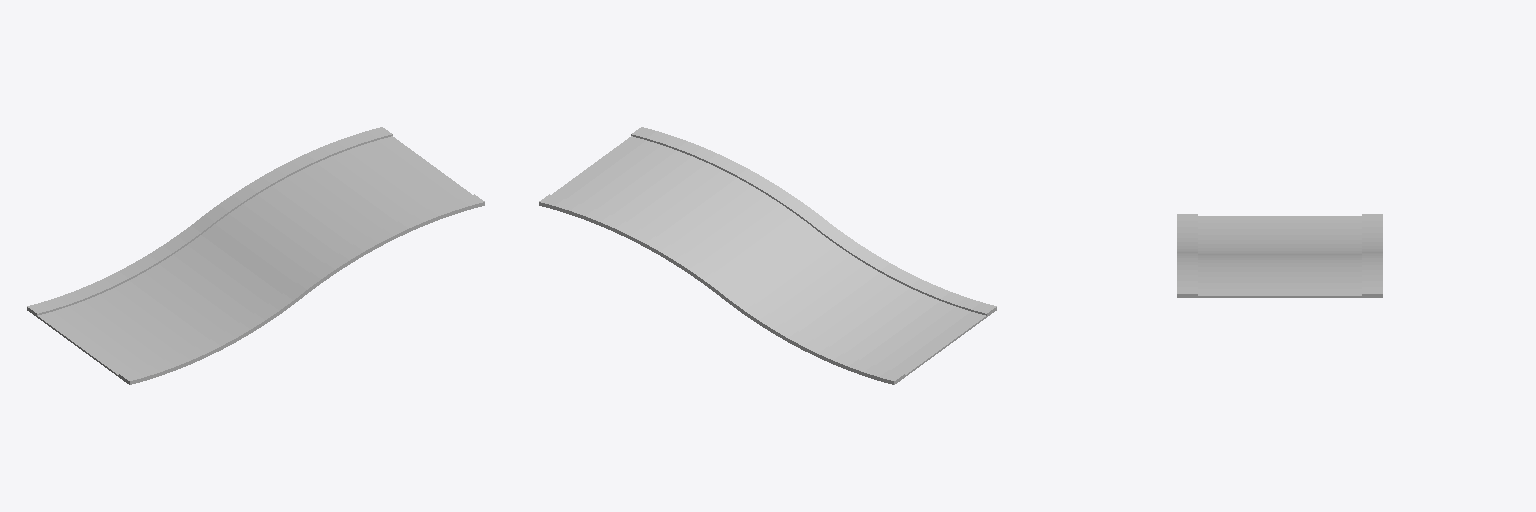
File: road_slantFlatCurve.obj
3 renders of one model, left to right at view 1: azimuth 30°, elevation 25°; view 2: azimuth 150°, elevation 25°; view 3: azimuth 270°, elevation 25°, orthographic.
Visible parts, largest first — view 1: road_slantFlatCurve; view 2: road_slantFlatCurve; view 3: road_slantFlatCurve.
Boxes of the visible parts, x1,y1,x2,y2 form: road_slantFlatCurve: [27, 127, 484, 384]; road_slantFlatCurve: [539, 127, 996, 384]; road_slantFlatCurve: [1177, 214, 1382, 297].
Bounding box in the file's own units: 2 × 0.52 × 1.